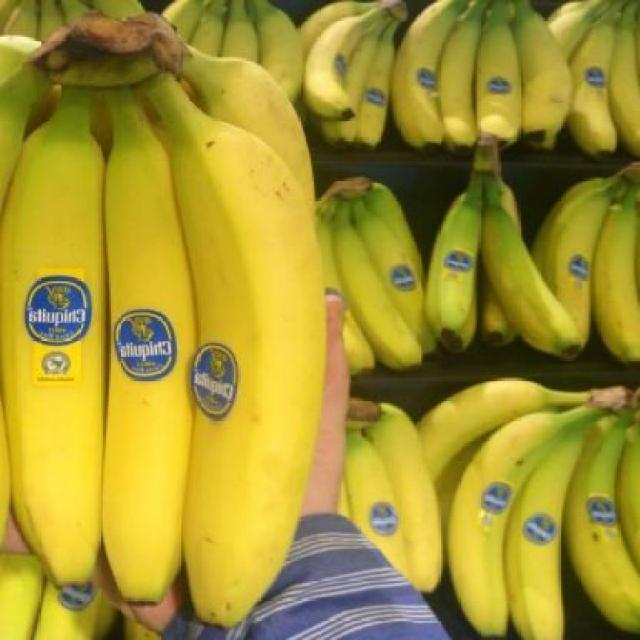Banana: (0, 12, 323, 613), (415, 378, 640, 640), (426, 142, 584, 372), (399, 0, 578, 150), (314, 176, 434, 372), (530, 154, 640, 367), (336, 399, 446, 582), (302, 0, 410, 151), (166, 0, 302, 108), (550, 0, 640, 151)
